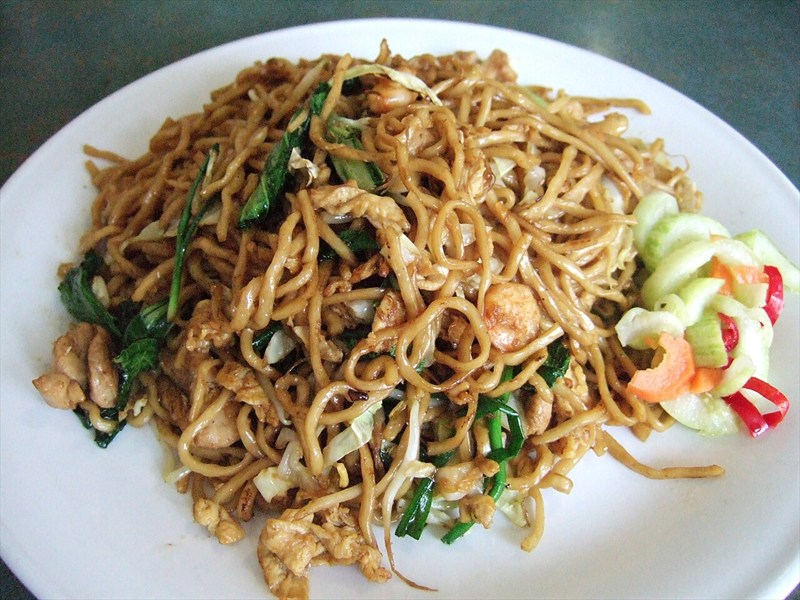Mie Goreng: (107, 79, 653, 501)
